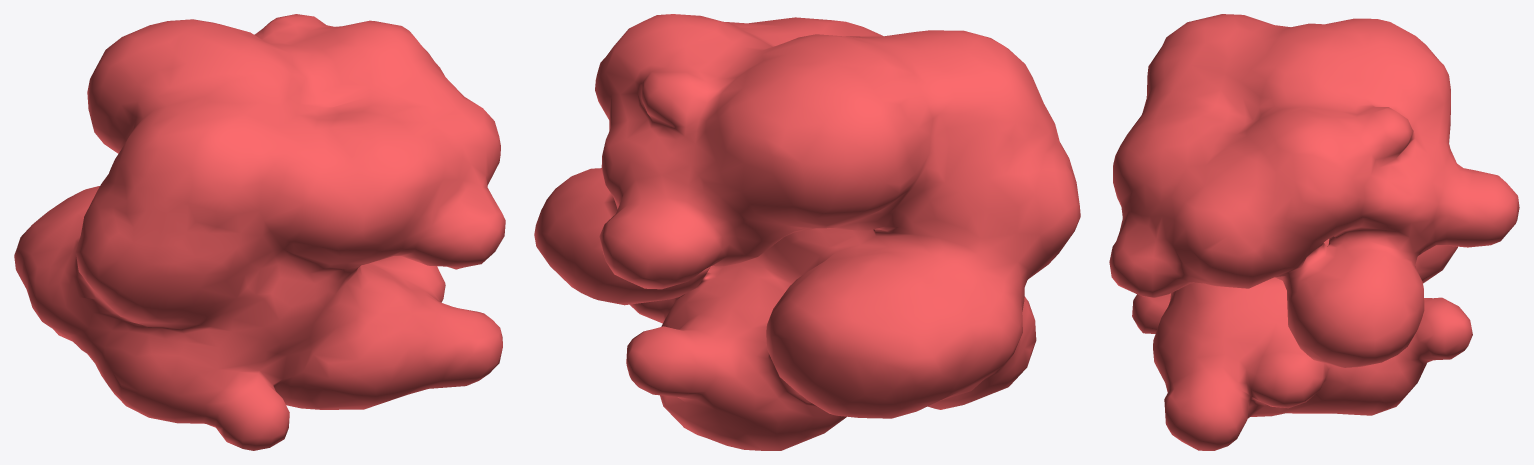
The model's file is cotton-candy-shrub.glb.
3 views of the same model, side by side, from view 1: azimuth 30°, elevation 25°; view 2: azimuth 150°, elevation 25°; view 3: azimuth 270°, elevation 25° (orthographic). The views are drawn at different scales.
Visible parts, largest first — view 1: cotton-candy-shrub floss shell 2; view 2: cotton-candy-shrub floss shell 2; view 3: cotton-candy-shrub floss shell 2.
Boxes of the visible parts, <box> form: cotton-candy-shrub floss shell 2: <box>14,14,505,450</box>; cotton-candy-shrub floss shell 2: <box>534,14,1080,450</box>; cotton-candy-shrub floss shell 2: <box>1109,14,1519,450</box>.
Size of the model in its own units: 1.56 by 1.23 by 1.38.
